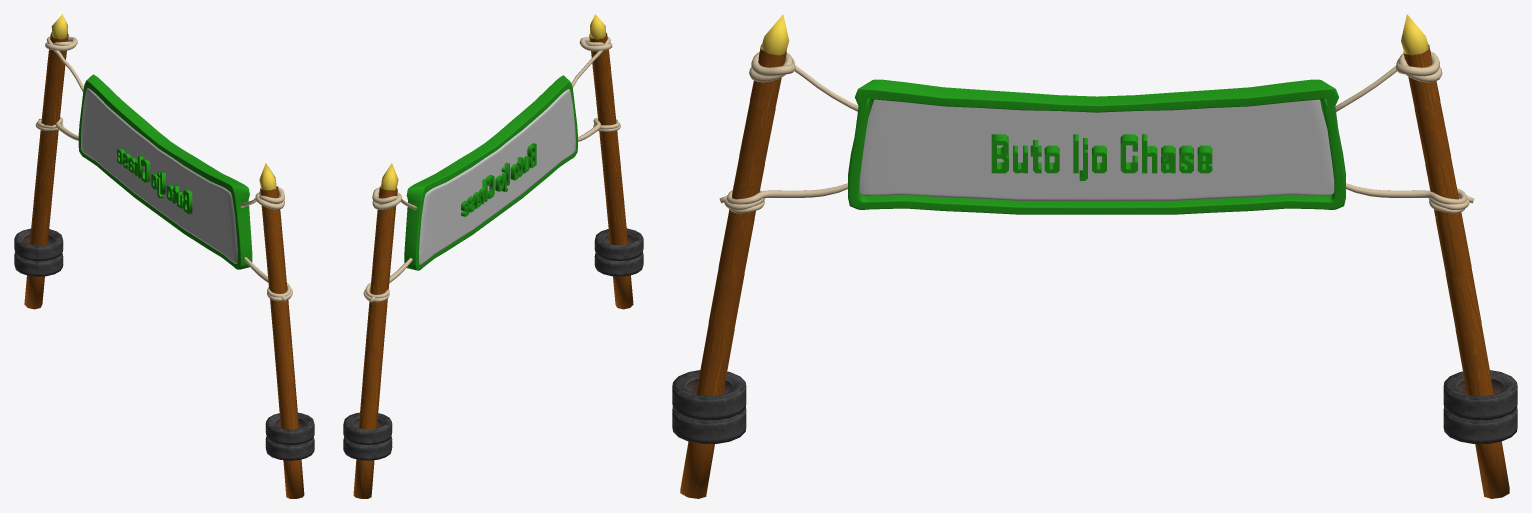
The model's file is GapuraArena1.fbx.
The picture shows the model from 3 angles, left to right: view 1: azimuth 30°, elevation 25°; view 2: azimuth 150°, elevation 25°; view 3: azimuth 270°, elevation 25°; orthographic projection. The views are drawn at different scales.
Parts seen in each view (by area): view 1: GateStart_LOD0; view 2: GateStart_LOD0; view 3: GateStart_LOD0.
Boxes of the visible parts, x1,y1,x2,y2 form: GateStart_LOD0: (14,14,314,498); GateStart_LOD0: (343,14,643,498); GateStart_LOD0: (672,14,1517,498).
Size of what is drawn, in the model's own units: 133 by 1519 by 953.
